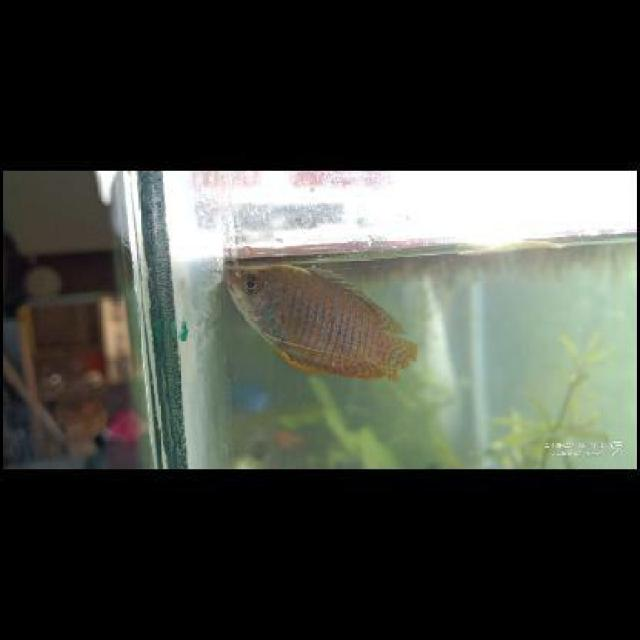Gourami: (224, 259, 418, 375)
